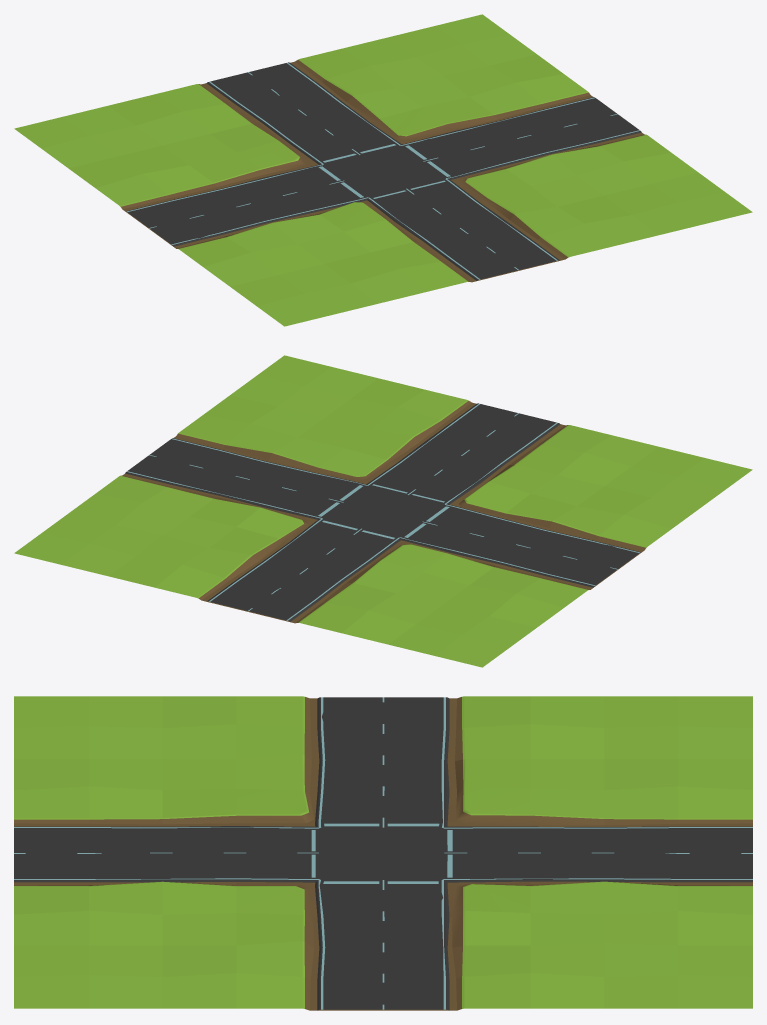
Rendered from model_road_grass_crossroad_02.fbx.
3 renders of one model, top to bottom at view 1: azimuth 30°, elevation 25°; view 2: azimuth 150°, elevation 25°; view 3: azimuth 270°, elevation 25°, orthographic. The views are drawn at different scales.
Visible parts, largest first — view 1: model_road_grass_crossroad_02; view 2: model_road_grass_crossroad_02; view 3: model_road_grass_crossroad_02.
Boxes of the visible parts, box(x1,y1,x2,y2) form: model_road_grass_crossroad_02: box(14, 14, 752, 326); model_road_grass_crossroad_02: box(14, 355, 752, 667); model_road_grass_crossroad_02: box(14, 696, 752, 1010).
Size of the model in its own units: 6161 by 62.08 by 6161.
Materials: 1 (1 with a texture image).
